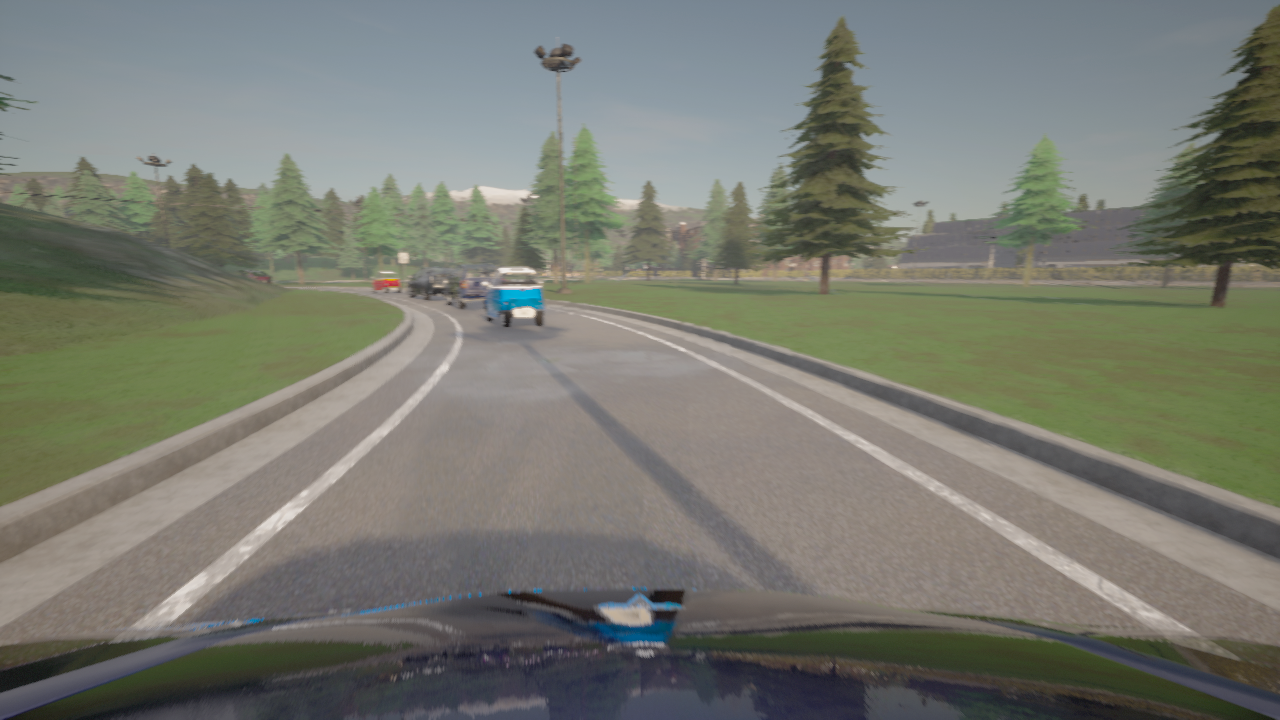cyclist: (0, 588, 1279, 719), (482, 266, 544, 327), (444, 263, 497, 309), (407, 266, 453, 300), (371, 271, 401, 293), (235, 270, 271, 283)
